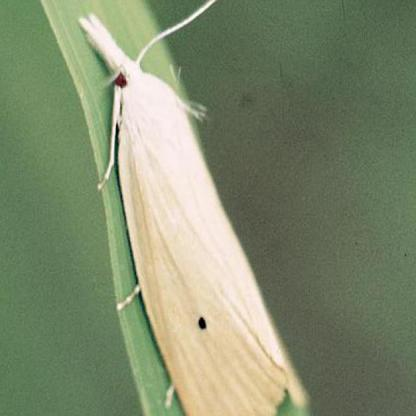stem-borer: (76, 10, 310, 416)
